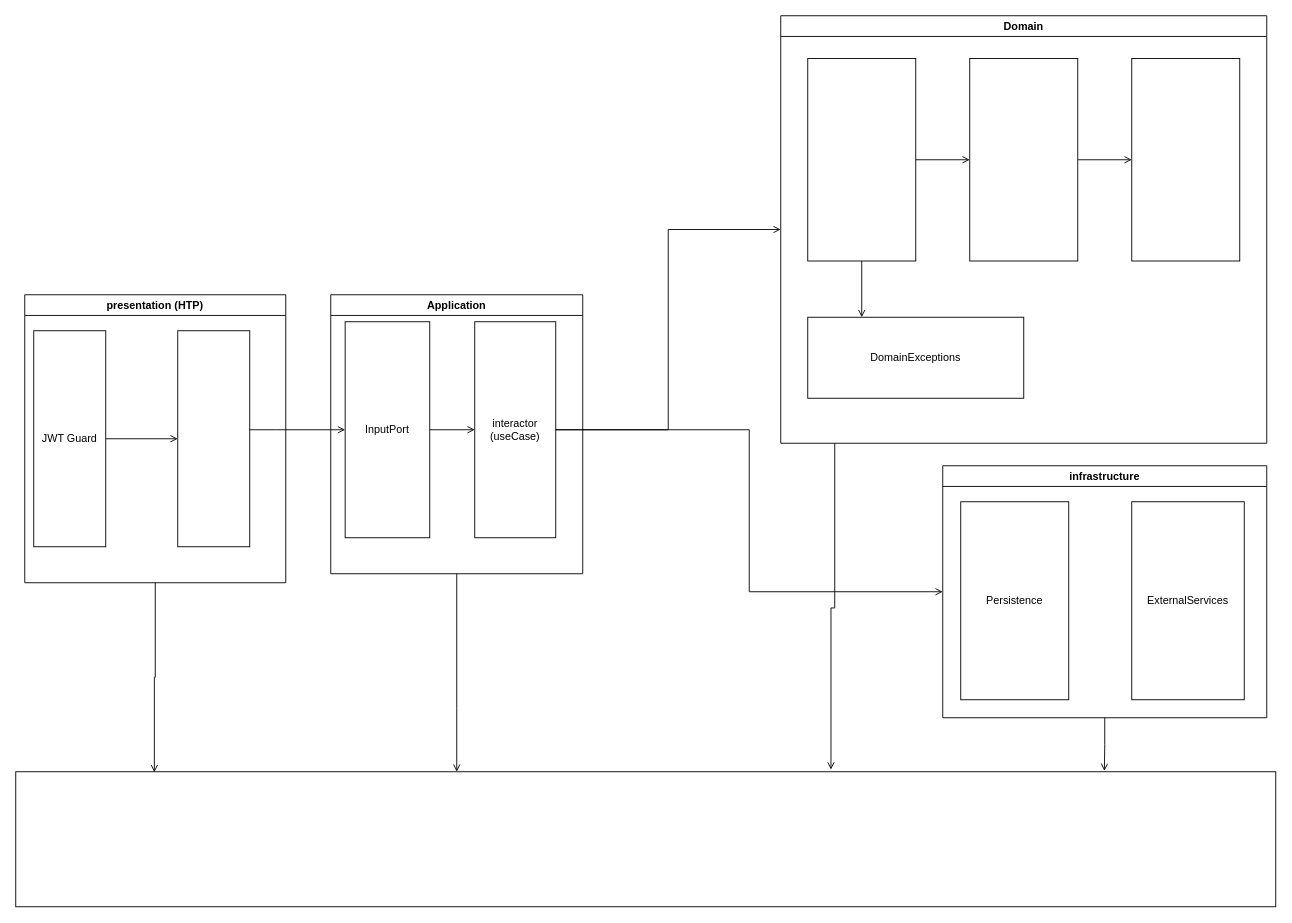
This 1292x923 diagram has some shape labels left out. Here are the shapes that lost their labels. From the top down, the centre of each, then its label:
At pixel 861 159: "Aggregate".
At pixel 1023 159: "ValueObjecr".
At pixel 1185 159: "DomainEvent".
At pixel 213 438: "Controller".
At pixel 645 839: "Shared Kernel".
